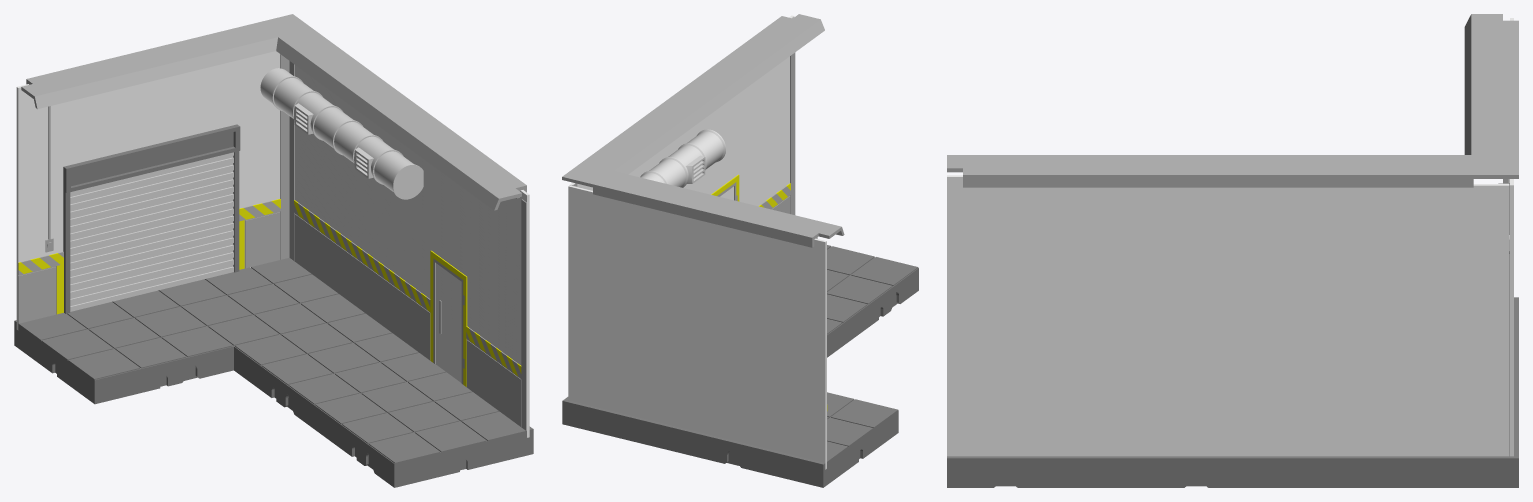
File: garage_eckprofil_rechts.glb
3 views of the same model, side by side, from view 1: azimuth 30°, elevation 25°; view 2: azimuth 150°, elevation 25°; view 3: azimuth 270°, elevation 25° (orthographic). The views are drawn at different scales.
Visible parts, largest first — view 1: MirrorWand_Garage_kopie-2, MirrorWerkstattboden_kopie-2, MirrorSeitenwand_Garage_kopie-2, MirrorArtika_Winkel_kopie-2, Lüftung_kopie-2; view 2: MirrorWand_Garage_kopie-2, MirrorWerkstattboden_kopie-2, MirrorArtika_Winkel_kopie-2, MirrorSeitenwand_Garage_kopie-2, Lüftung_kopie-2; view 3: MirrorSeitenwand_Garage_kopie-2, MirrorArtika_Winkel_kopie-2, MirrorWerkstattboden_kopie-2, MirrorWand_Garage_kopie-2.
Boxes of the visible parts, x1,y1,x2,y2 form: MirrorWand_Garage_kopie-2: [16, 51, 289, 330]; MirrorWerkstattboden_kopie-2: [14, 257, 533, 487]; MirrorSeitenwand_Garage_kopie-2: [289, 61, 529, 437]; MirrorArtika_Winkel_kopie-2: [21, 14, 526, 210]; Lüftung_kopie-2: [260, 68, 423, 199]; MirrorWand_Garage_kopie-2: [568, 185, 827, 469]; MirrorWerkstattboden_kopie-2: [562, 245, 918, 487]; MirrorArtika_Winkel_kopie-2: [562, 14, 844, 247]; MirrorSeitenwand_Garage_kopie-2: [570, 15, 795, 214]; Lüftung_kopie-2: [640, 129, 725, 187]; MirrorSeitenwand_Garage_kopie-2: [947, 175, 1509, 456]; MirrorArtika_Winkel_kopie-2: [947, 14, 1518, 187]; MirrorWerkstattboden_kopie-2: [947, 297, 1518, 487]; MirrorWand_Garage_kopie-2: [1503, 18, 1513, 456].
Size of the model in its own units: 0.1201 by 0.1087 by 0.18.
